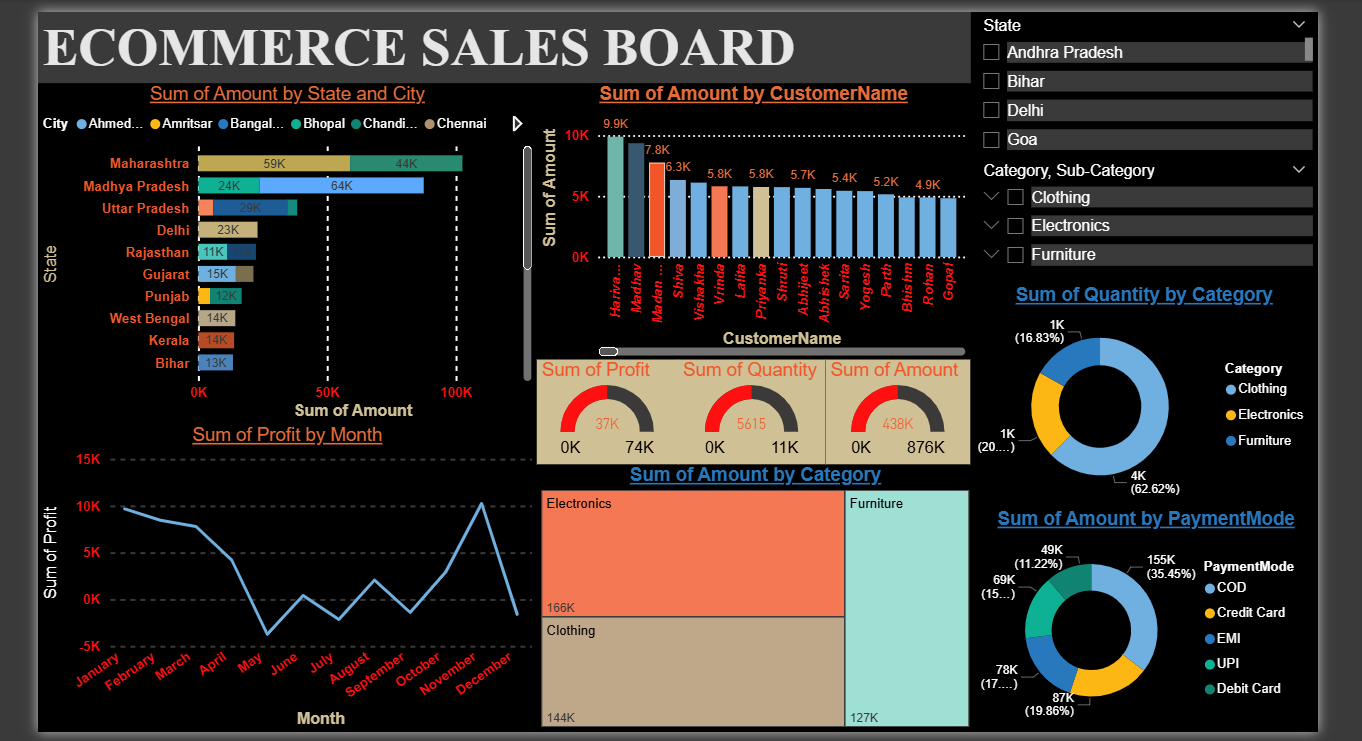

The dashboard page shown, as its layout file describes it:
{"tool":"powerbi","page":{"name":"Stacked Bar","canvas":[1280,720],"ordinal":1},"visuals":[{"type":"barChart","fields":{"Category":["Ecommerce-Orders.State"],"Y":["Sum(Ecommerce-Details.Amount)"],"Series":["Ecommerce-Orders.City"]},"box":[0,71.2,498.8,341.2],"z":0},{"type":"columnChart","fields":{"Category":["Ecommerce-Orders.CustomerName"],"Y":["Sum(Ecommerce-Details.Amount)"]},"box":[498.8,71.2,433.8,277.5],"z":1000},{"type":"lineChart","fields":{"Category":["Ecommerce-Orders.Order Date.Variation.Date Hierarchy.Month"],"Y":["Sum(Ecommerce-Details.Profit)"]},"box":[0,412.5,498.8,307.5],"z":2000},{"type":"donutChart","fields":{"Y":["Sum(Ecommerce-Details.Amount)"],"Category":["Ecommerce-Details.PaymentMode"]},"box":[936.7,496.5,343.6,223.8],"z":3000},{"type":"donutChart","fields":{"Y":["Sum(Ecommerce-Details.Quantity)"],"Category":["Ecommerce-Details.Category"]},"box":[932.5,272.5,347.5,223.8],"z":4000},{"type":"slicer","fields":{"Values":["Ecommerce-Details.Category","Ecommerce-Details.Sub-Category"]},"box":[932.5,145,347.5,127.5],"z":5000},{"type":"slicer","fields":{"Values":["Ecommerce-Orders.State"]},"box":[932.5,0,347.5,145],"z":6000},{"type":"treemap","fields":{"Values":["Sum(Ecommerce-Details.Amount)"],"Group":["Ecommerce-Details.Category"]},"box":[498.8,452.5,437.5,267.5],"z":7000},{"type":"gauge","fields":{"Y":["Sum(Ecommerce-Details.Amount)"]},"box":[787.5,347.5,145,105],"z":8000},{"type":"gauge","fields":{"Y":["Sum(Ecommerce-Details.Quantity)"]},"box":[640,347.5,147.5,105],"z":9000},{"type":"gauge","fields":{"Y":["Sum(Ecommerce-Details.Profit)"]},"box":[498.8,347.5,141.2,105],"z":10000},{"type":"textbox","box":[0,0,932.5,71.2],"z":11000}]}

Visuals, with their boxes on the page's 1280x720 design canvas (x1, y1, x2, y2). These are canvas units, not pixel positions in the 1362x741 screenshot, which may show the page scaled, cropped or inside an application window:
barChart - Ecommerce-Orders.State x Sum(Ecommerce-Details.Amount): bbox(0, 71, 499, 412)
columnChart - Ecommerce-Orders.CustomerName x Sum(Ecommerce-Details.Amount): bbox(499, 71, 933, 349)
lineChart - Ecommerce-Orders.Order Date.Variation.Date Hierarchy.Month x Sum(Ecommerce-Details.Profit): bbox(0, 412, 499, 720)
donutChart - Sum(Ecommerce-Details.Amount) x Ecommerce-Details.PaymentMode: bbox(937, 496, 1280, 720)
donutChart - Sum(Ecommerce-Details.Quantity) x Ecommerce-Details.Category: bbox(932, 272, 1280, 496)
slicer - Ecommerce-Details.Category x Ecommerce-Details.Sub-Category: bbox(932, 145, 1280, 272)
slicer - Ecommerce-Orders.State: bbox(932, 0, 1280, 145)
treemap - Sum(Ecommerce-Details.Amount) x Ecommerce-Details.Category: bbox(499, 452, 936, 720)
gauge - Sum(Ecommerce-Details.Amount): bbox(788, 348, 932, 452)
gauge - Sum(Ecommerce-Details.Quantity): bbox(640, 348, 788, 452)
gauge - Sum(Ecommerce-Details.Profit): bbox(499, 348, 640, 452)
textbox: bbox(0, 0, 932, 71)
